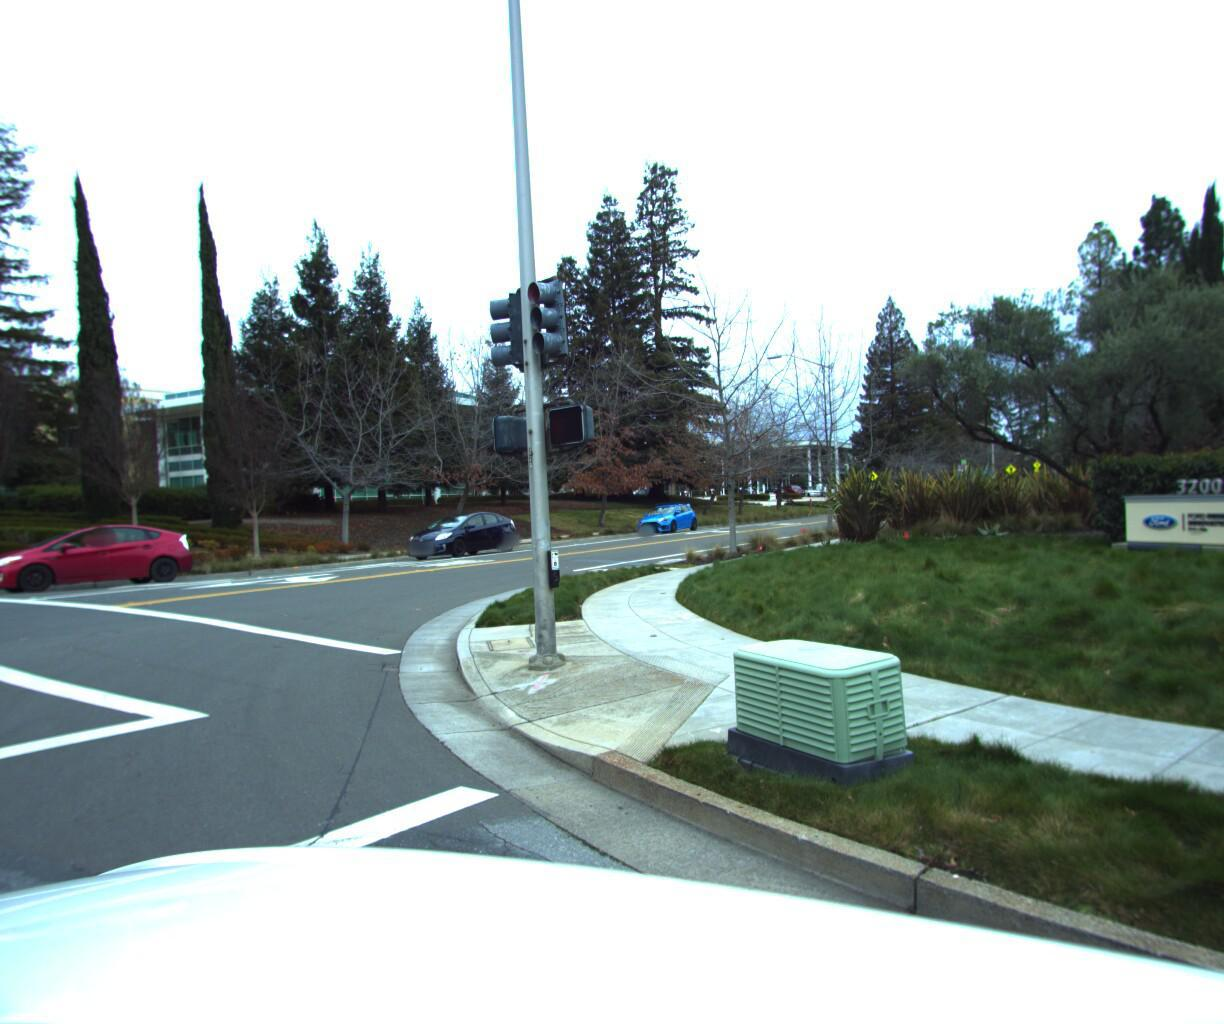car: (0, 518, 203, 597), (392, 502, 521, 556), (631, 496, 699, 532)
